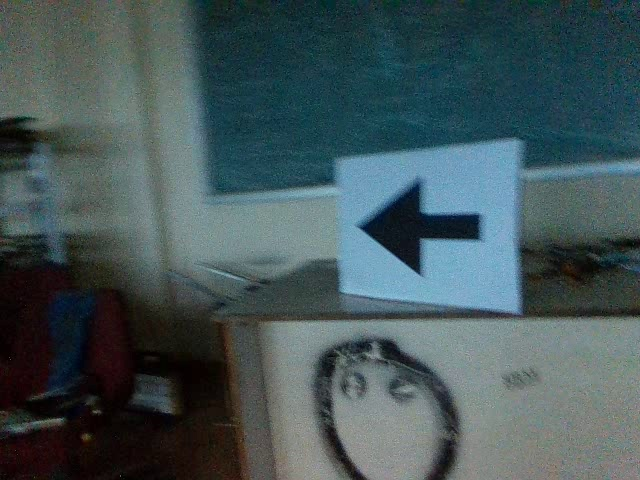Left: (351, 174, 489, 274)
